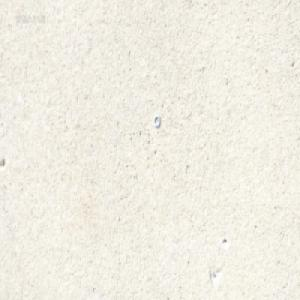Washer: (153, 113, 160, 127)
